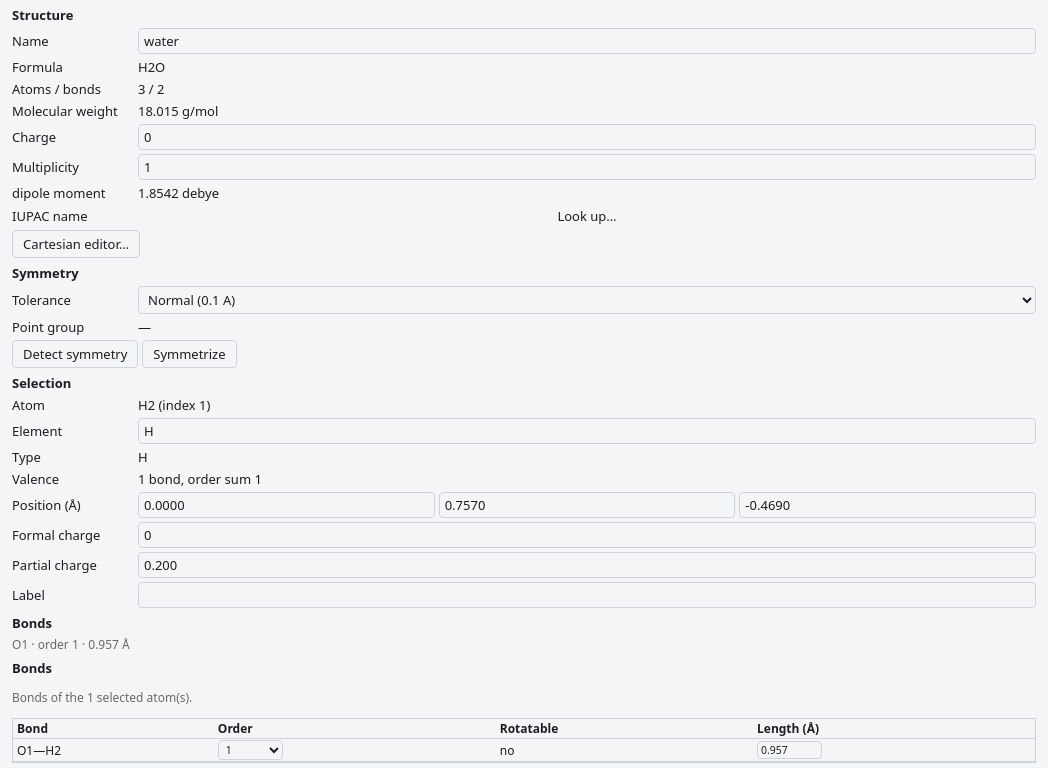
a typed partial charge is written back into the scalar property, as one undo step
// the panel fetches the atom types for the selected atom: let that land before editing
Step 1. Replace the text in the number field named "Partial charge" with "0.35" → (587, 565), box [138, 552, 1036, 578]
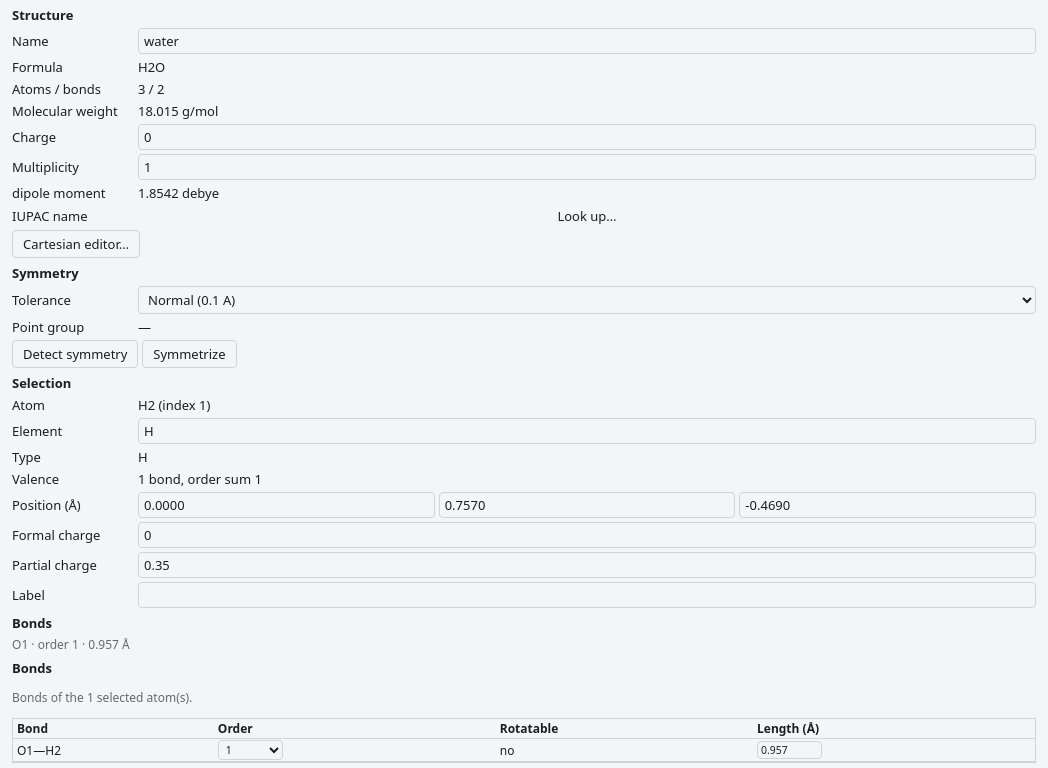
Step 2. Leave the number field named "Partial charge", box [138, 552, 1036, 578]
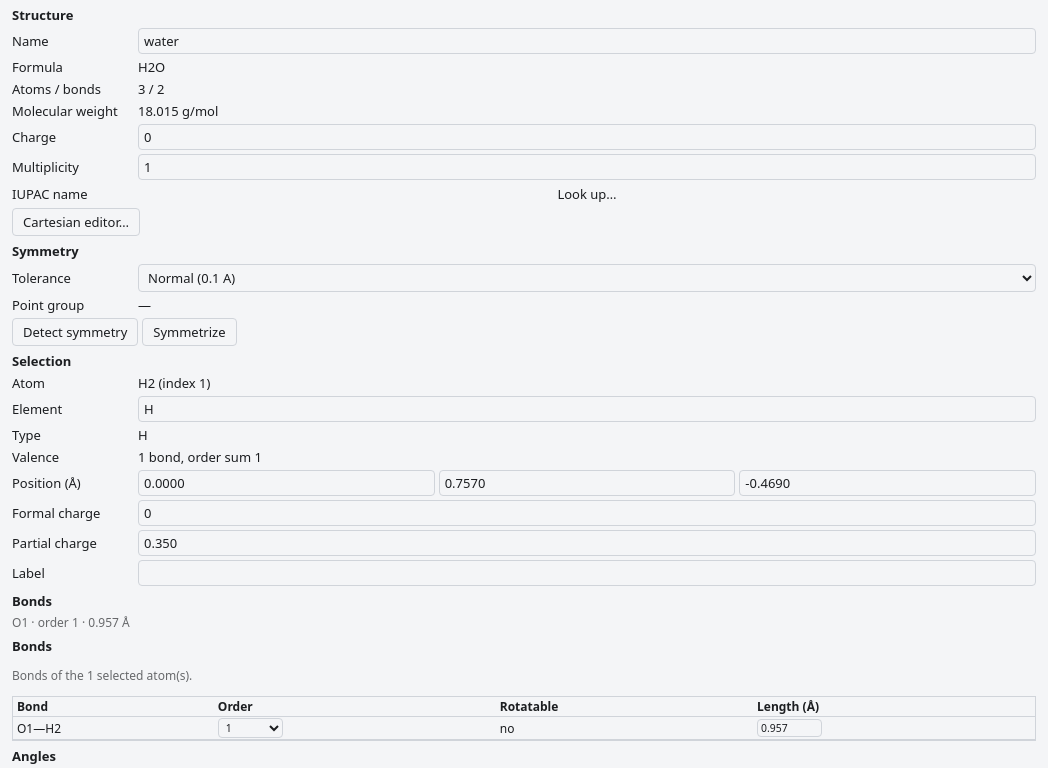
Check: the text "dipole moment" is gone
